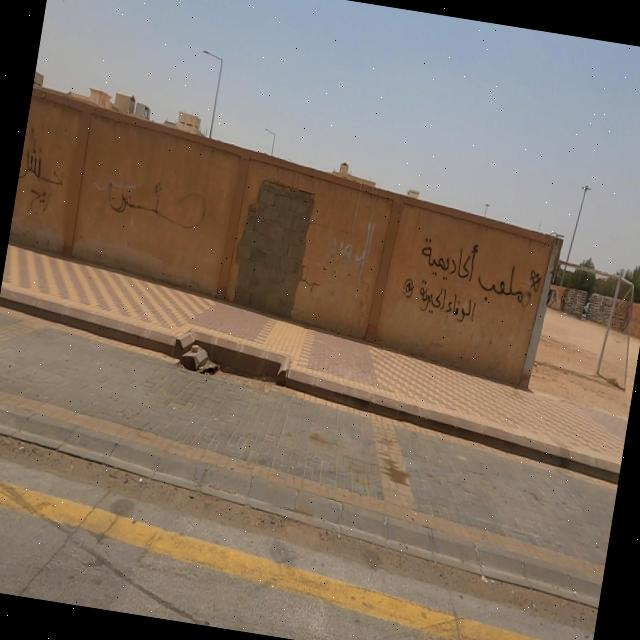Graffiti: (399, 233, 547, 333), (104, 170, 212, 232), (15, 124, 70, 216), (330, 205, 378, 266)
